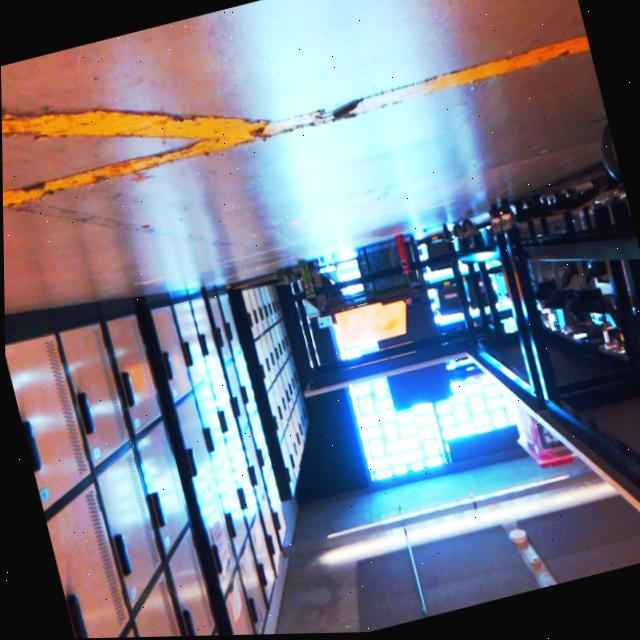greenpringles: (289, 251, 326, 312)
redpringles: (386, 230, 423, 290)
